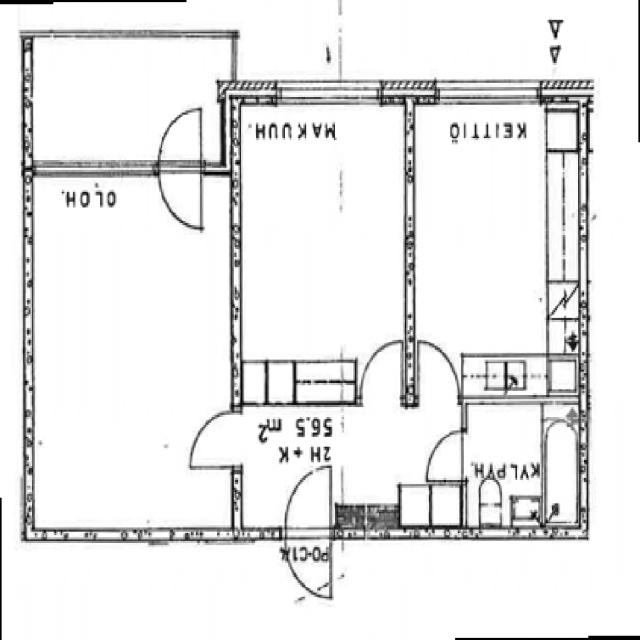door: (155, 103, 207, 235), (281, 462, 333, 562), (184, 406, 241, 478), (355, 335, 407, 404), (411, 336, 461, 405), (422, 423, 469, 487)
window: (26, 151, 156, 187), (433, 76, 540, 113), (273, 80, 379, 114)
zone: (23, 171, 236, 533), (230, 93, 413, 397), (405, 105, 587, 372), (462, 400, 579, 537), (543, 411, 586, 536), (396, 479, 464, 541)
